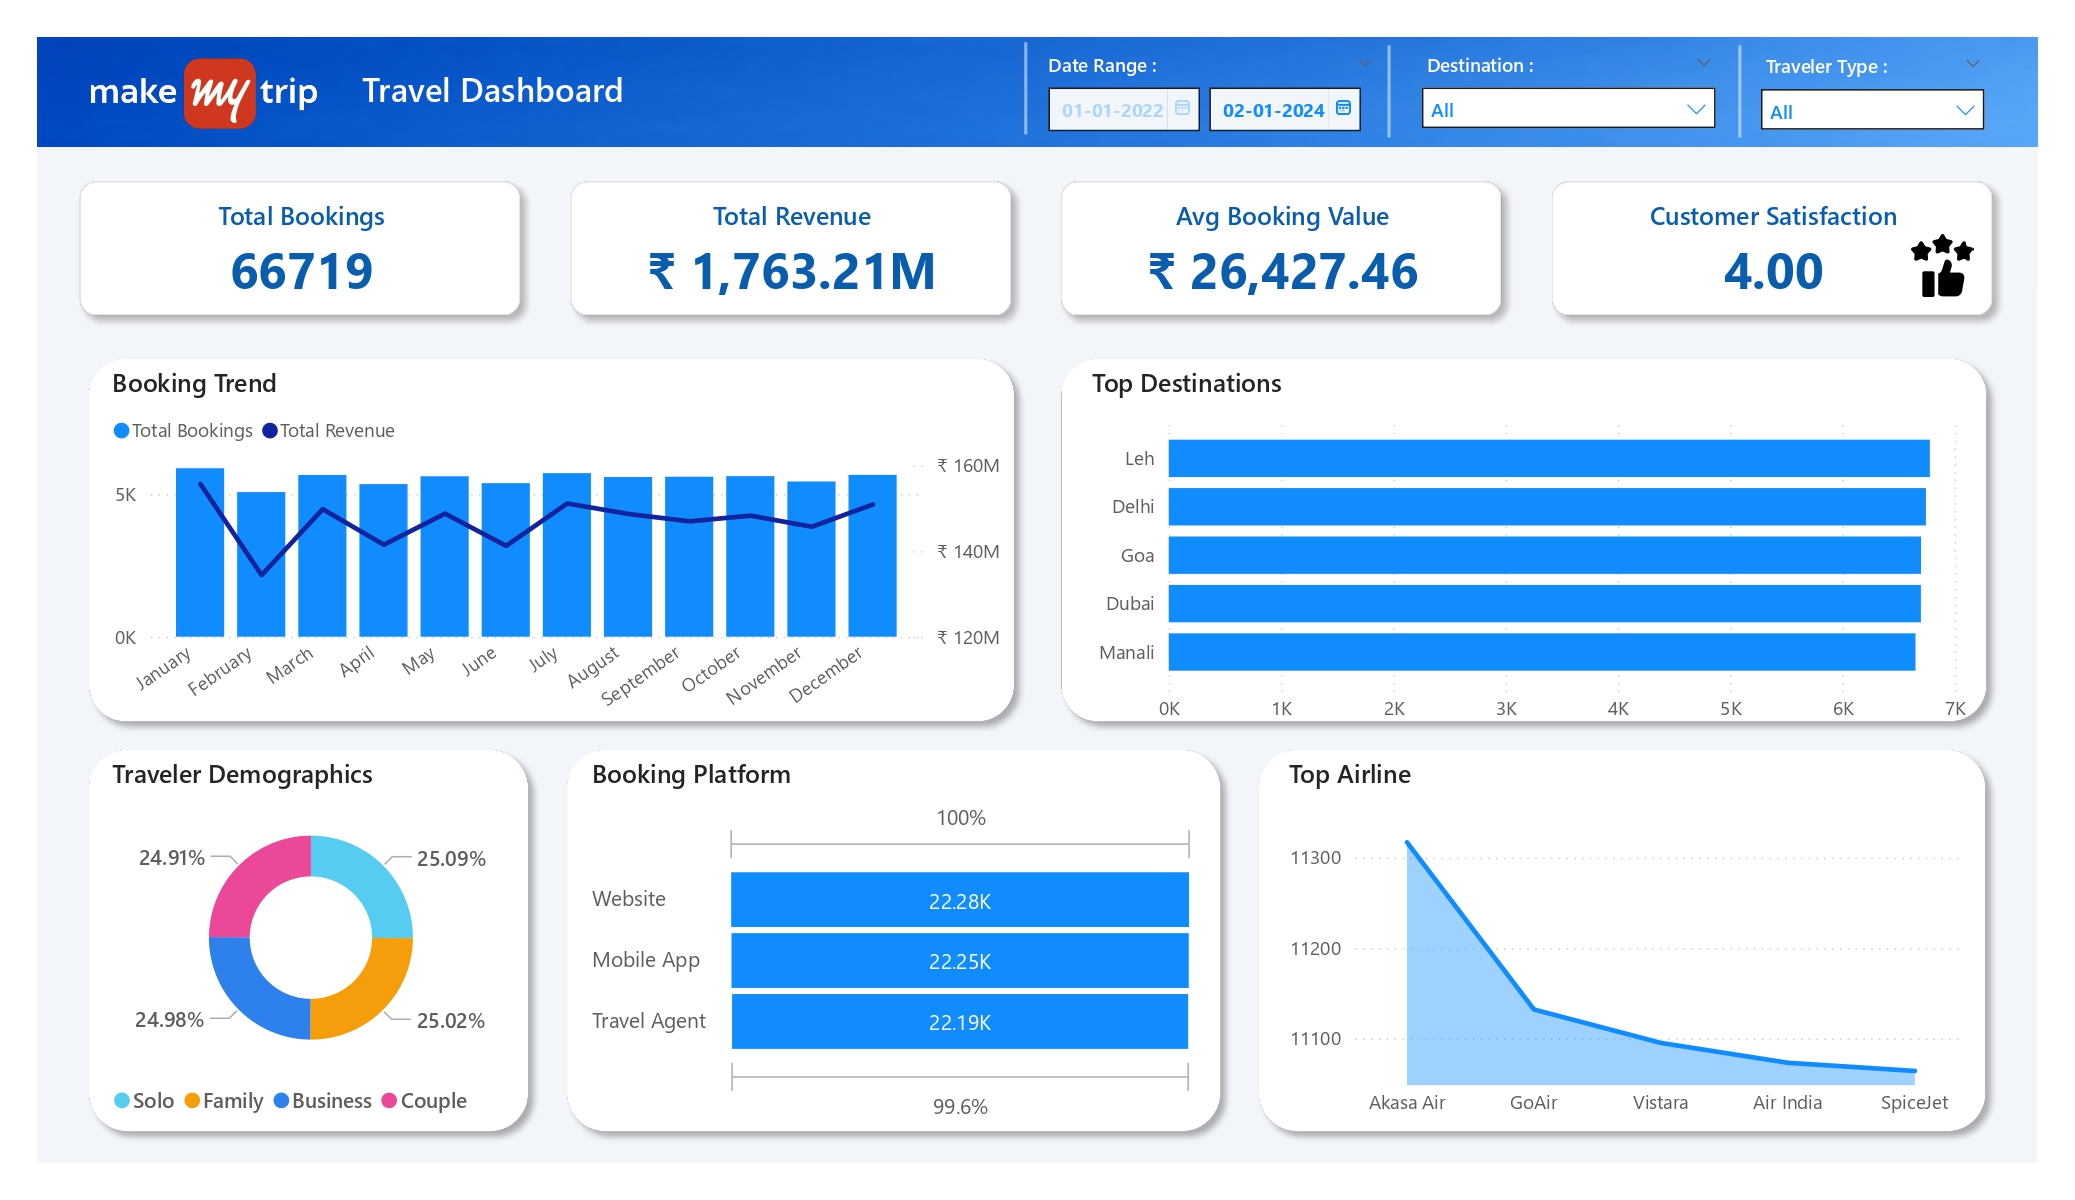

The page's visual inventory and layout, read from the dashboard file:
{"tool":"powerbi","page":{"name":"Page 1","canvas":[1280,720],"ordinal":0},"visuals":[{"type":"image","box":[0,0,1280,70],"z":0},{"type":"image","box":[10,8.6,192.9,54.3],"z":1000},{"type":"textbox","box":[202.9,12.9,240,45.7],"z":2000},{"type":"cardVisual","fields":{"Data":["MakeMyTrip.Total Bookings","MakeMyTrip.Total Revenue","MakeMyTrip.Avg Booking Value","MakeMyTrip.Customer Satisfaction"]},"box":[0,70,1280,130],"z":3000},{"type":"image","box":[1198.6,125.7,40,40],"z":4000},{"type":"shape","box":[24.3,197.1,610,250],"z":5000},{"type":"shape","box":[645.7,197.1,610,250],"z":6000},{"type":"shape","box":[24.3,447.1,298.6,261.4],"z":7000},{"type":"shape","box":[330,447.1,435.7,261.4],"z":8000},{"type":"shape","box":[772.9,447.1,482.9,261.4],"z":9000},{"type":"donutChart","title":"Traveler Demographics","fields":{"Y":["MakeMyTrip.Total Revenue"],"Category":["MakeMyTrip.Traveler_Type"]},"box":[42.9,460,264.3,238.6],"z":10000},{"type":"barChart","title":"Top Destinations","fields":{"Category":["MakeMyTrip.Destination"],"Y":["MakeMyTrip.Total Bookings"]},"box":[670,210,568.6,237.1],"z":11000},{"type":"lineClusteredColumnComboChart","title":"Booking Trend","fields":{"Category":["MakeMyTrip.Booking_Date.Variation.Date Hierarchy.Month"],"Y":["MakeMyTrip.Total Bookings"],"Y2":["MakeMyTrip.Total Revenue"]},"box":[42.9,210,578.6,237.1],"z":12000},{"type":"funnel","title":"Booking Platform ","fields":{"Category":["MakeMyTrip.Booking_Channel"],"Y":["CountNonNull(MakeMyTrip.Booking_Channel)"]},"box":[350,460,397.1,238.6],"z":13000},{"type":"areaChart","title":"Top Airline","fields":{"Category":["MakeMyTrip.Airline"],"Y":["MakeMyTrip.Total Bookings"]},"box":[795.7,460,442.9,238.6],"z":14000},{"type":"slicer","title":"Date Range","fields":{"Values":["MakeMyTrip.Booking_Date"]},"box":[633.6,3.8,233.3,59.9],"z":15000},{"type":"slicer","fields":{"Values":["MakeMyTrip.Destination"]},"box":[875.9,3.8,207.8,58.6],"z":15001},{"type":"slicer","fields":{"Values":["MakeMyTrip.Traveler_Type"]},"box":[1093.3,4.6,163,58.9],"z":15002},{"type":"shape","box":[715.4,4.6,299.3,58.9],"z":15003},{"type":"shape","box":[483.1,3.5,299.3,58.9],"z":15004},{"type":"shape","box":[939.6,4.6,299.3,58.9],"z":15005}]}

Visuals, with their boxes on the page's 1280x720 design canvas (x1, y1, x2, y2). These are canvas units, not pixel positions in the 2075x1200 screenshot, which may show the page scaled, cropped or inside an application window:
image: box=[0, 0, 1280, 70]
image: box=[10, 9, 203, 63]
textbox: box=[203, 13, 443, 59]
cardVisual - MakeMyTrip.Total Bookings x MakeMyTrip.Total Revenue: box=[0, 70, 1280, 200]
image: box=[1199, 126, 1239, 166]
shape: box=[24, 197, 634, 447]
shape: box=[646, 197, 1256, 447]
shape: box=[24, 447, 323, 708]
shape: box=[330, 447, 766, 708]
shape: box=[773, 447, 1256, 708]
"Traveler Demographics" donutChart: box=[43, 460, 307, 699]
"Top Destinations" barChart: box=[670, 210, 1239, 447]
"Booking Trend" lineClusteredColumnComboChart: box=[43, 210, 622, 447]
"Booking Platform " funnel: box=[350, 460, 747, 699]
"Top Airline" areaChart: box=[796, 460, 1239, 699]
"Date Range" slicer: box=[634, 4, 867, 64]
slicer - MakeMyTrip.Destination: box=[876, 4, 1084, 62]
slicer - MakeMyTrip.Traveler_Type: box=[1093, 5, 1256, 64]
shape: box=[715, 5, 1015, 64]
shape: box=[483, 4, 782, 62]
shape: box=[940, 5, 1239, 64]
